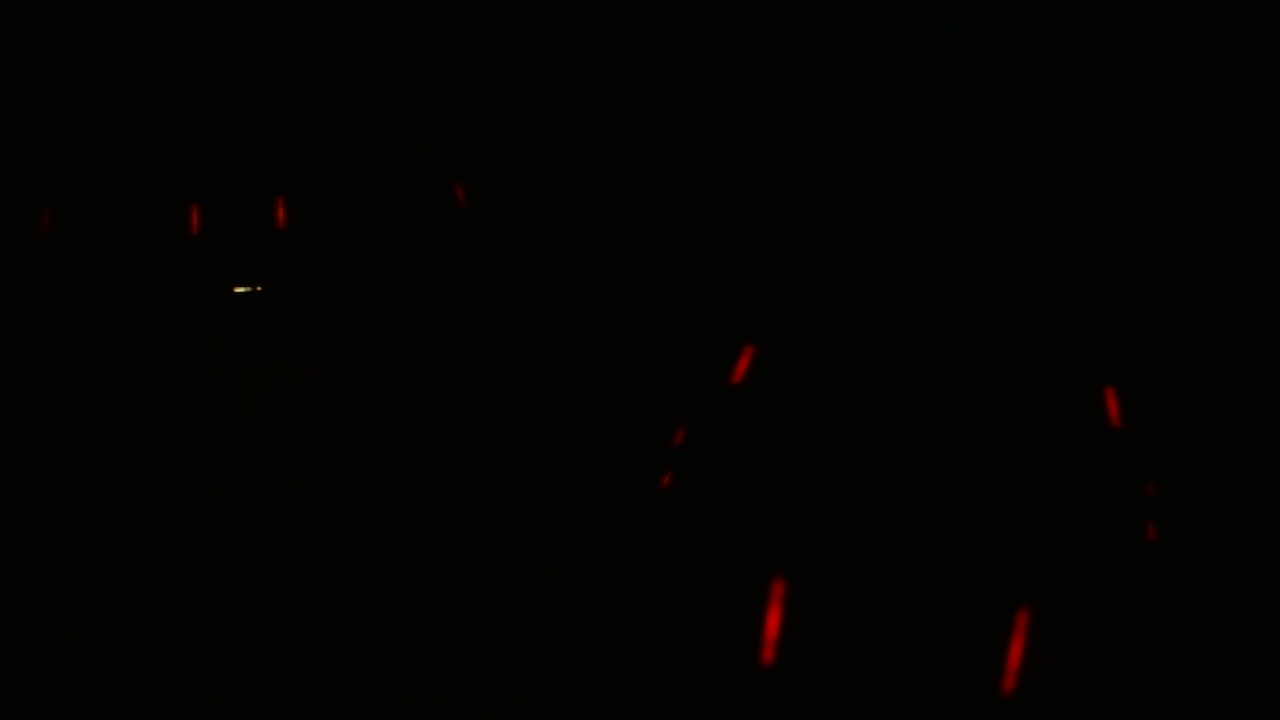pair1: (175, 190, 298, 249)
pair2: (748, 577, 1035, 700)
